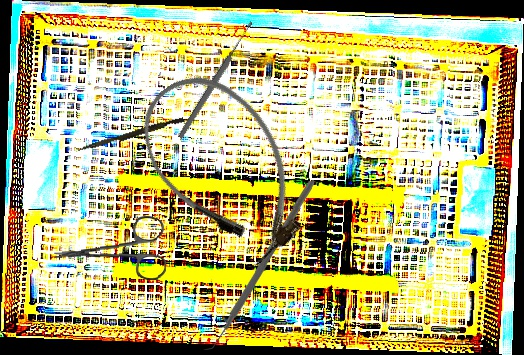Cannula: (119, 52, 330, 283)
Chopper: (193, 180, 317, 351)
Iris Scissors: (52, 215, 167, 285)
Pusher: (77, 114, 185, 156)
Surgical Spoon: (176, 20, 256, 140)
